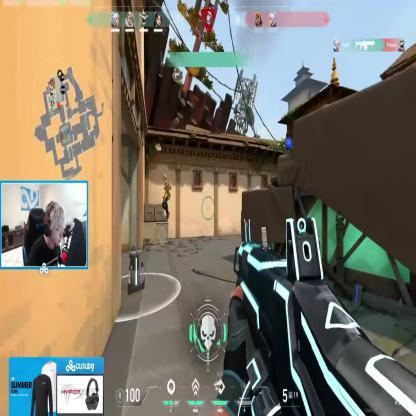enemy: (162, 172, 172, 218)
enemy_head: (162, 173, 166, 182)
